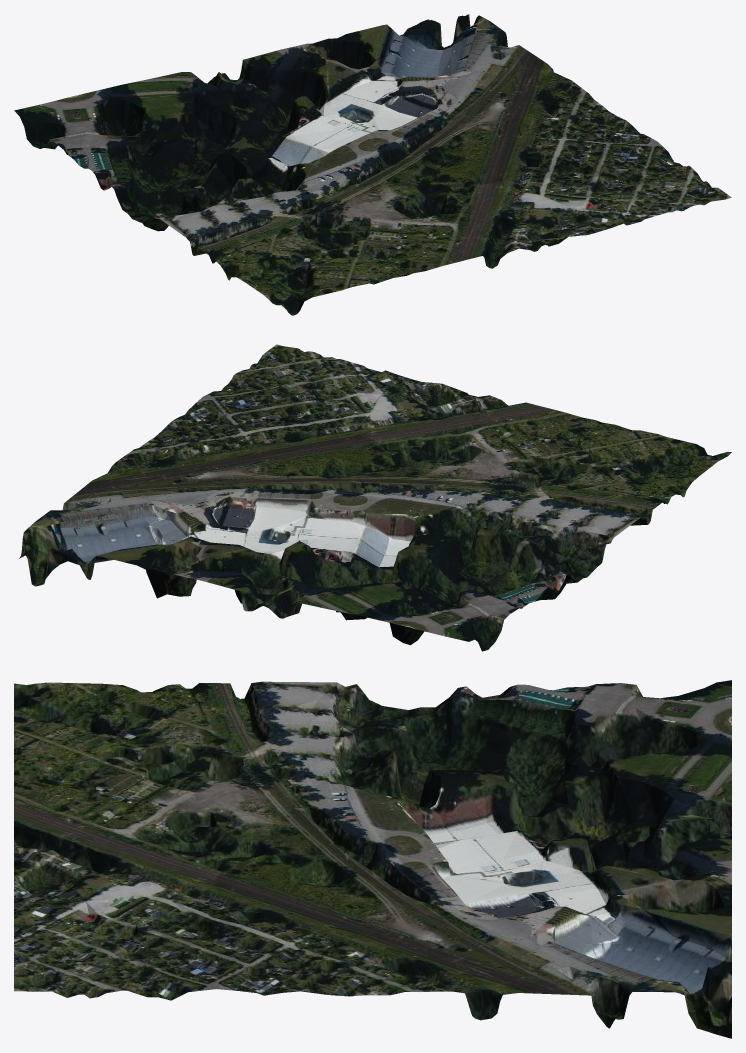
File: map_13_2047_3449.dae
The picture shows the model from 3 angles, top to bottom: view 1: azimuth 30°, elevation 25°; view 2: azimuth 150°, elevation 25°; view 3: azimuth 270°, elevation 25°; orthographic projection. The views are drawn at different scales.
Parts seen in each view (by area): view 1: Ter0; view 2: Ter0; view 3: Ter0.
Part boxes in pixels (left/top/right/bottom): Ter0: left=14, top=14, right=731, bottom=315; Ter0: left=19, top=344, right=731, bottom=651; Ter0: left=14, top=680, right=731, bottom=1038.
Bounding box in the file's own units: 256 × 256 × 27.05.
3 materials, 3 textured.
